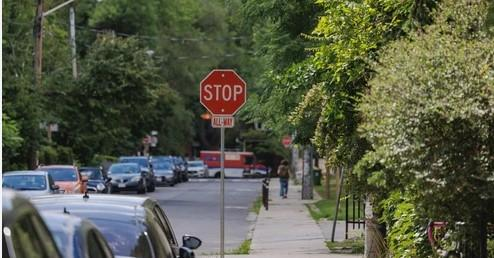Pole: (220, 129, 224, 257)
Sign: (199, 70, 247, 115)
